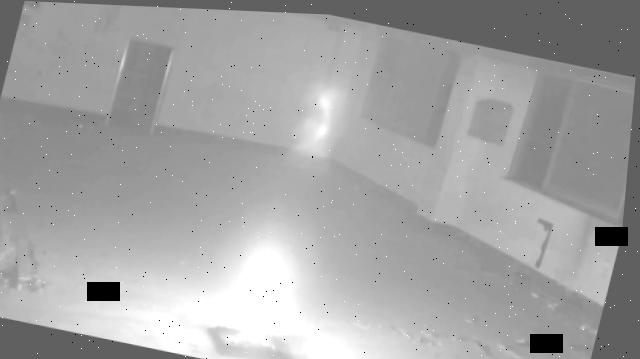fire: (216, 246, 305, 332)
smoke: (284, 67, 361, 169)
